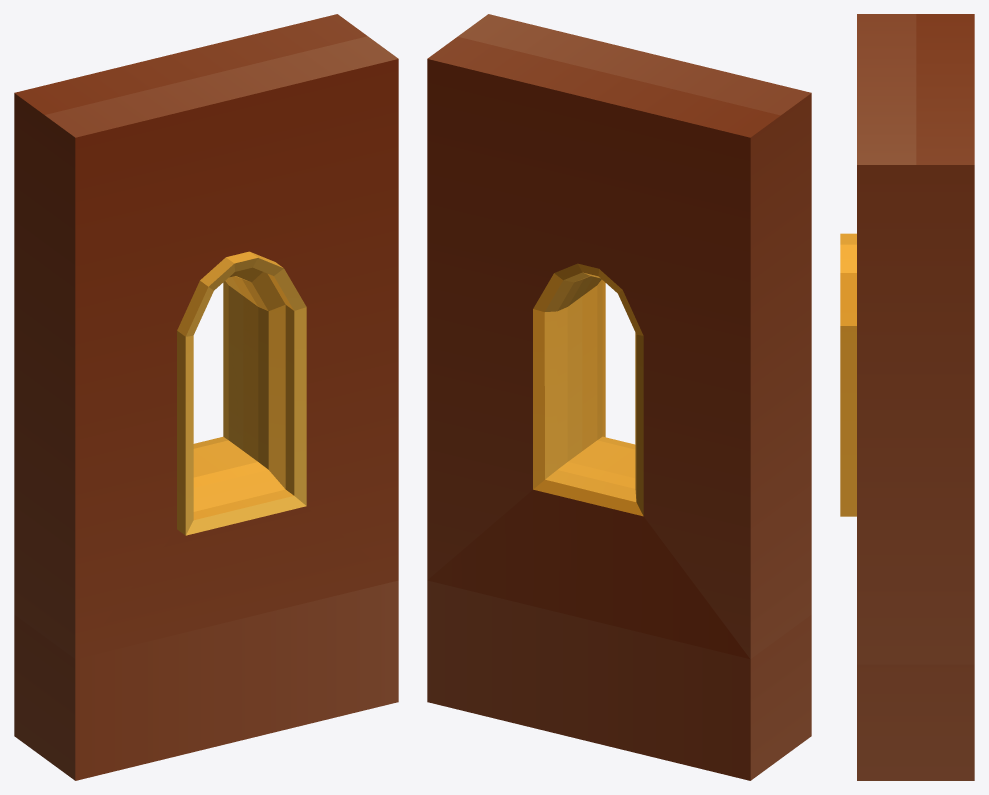
File: WallSmallWindow.fbx
The picture shows the model from 3 angles, left to right: view 1: azimuth 30°, elevation 25°; view 2: azimuth 150°, elevation 25°; view 3: azimuth 270°, elevation 25°; orthographic projection. The views are drawn at different scales.
Parts seen in each view (by area): view 1: WallSmallWindow_LOD0; view 2: WallSmallWindow_LOD0; view 3: WallSmallWindow_LOD0.
Part boxes in pixels (left/top/right/bottom): WallSmallWindow_LOD0: left=14, top=14, right=398, bottom=780; WallSmallWindow_LOD0: left=427, top=14, right=811, bottom=780; WallSmallWindow_LOD0: left=840, top=14, right=974, bottom=780.
Size of what is drawn, in the model's own units: 239 by 454 by 89.49.
